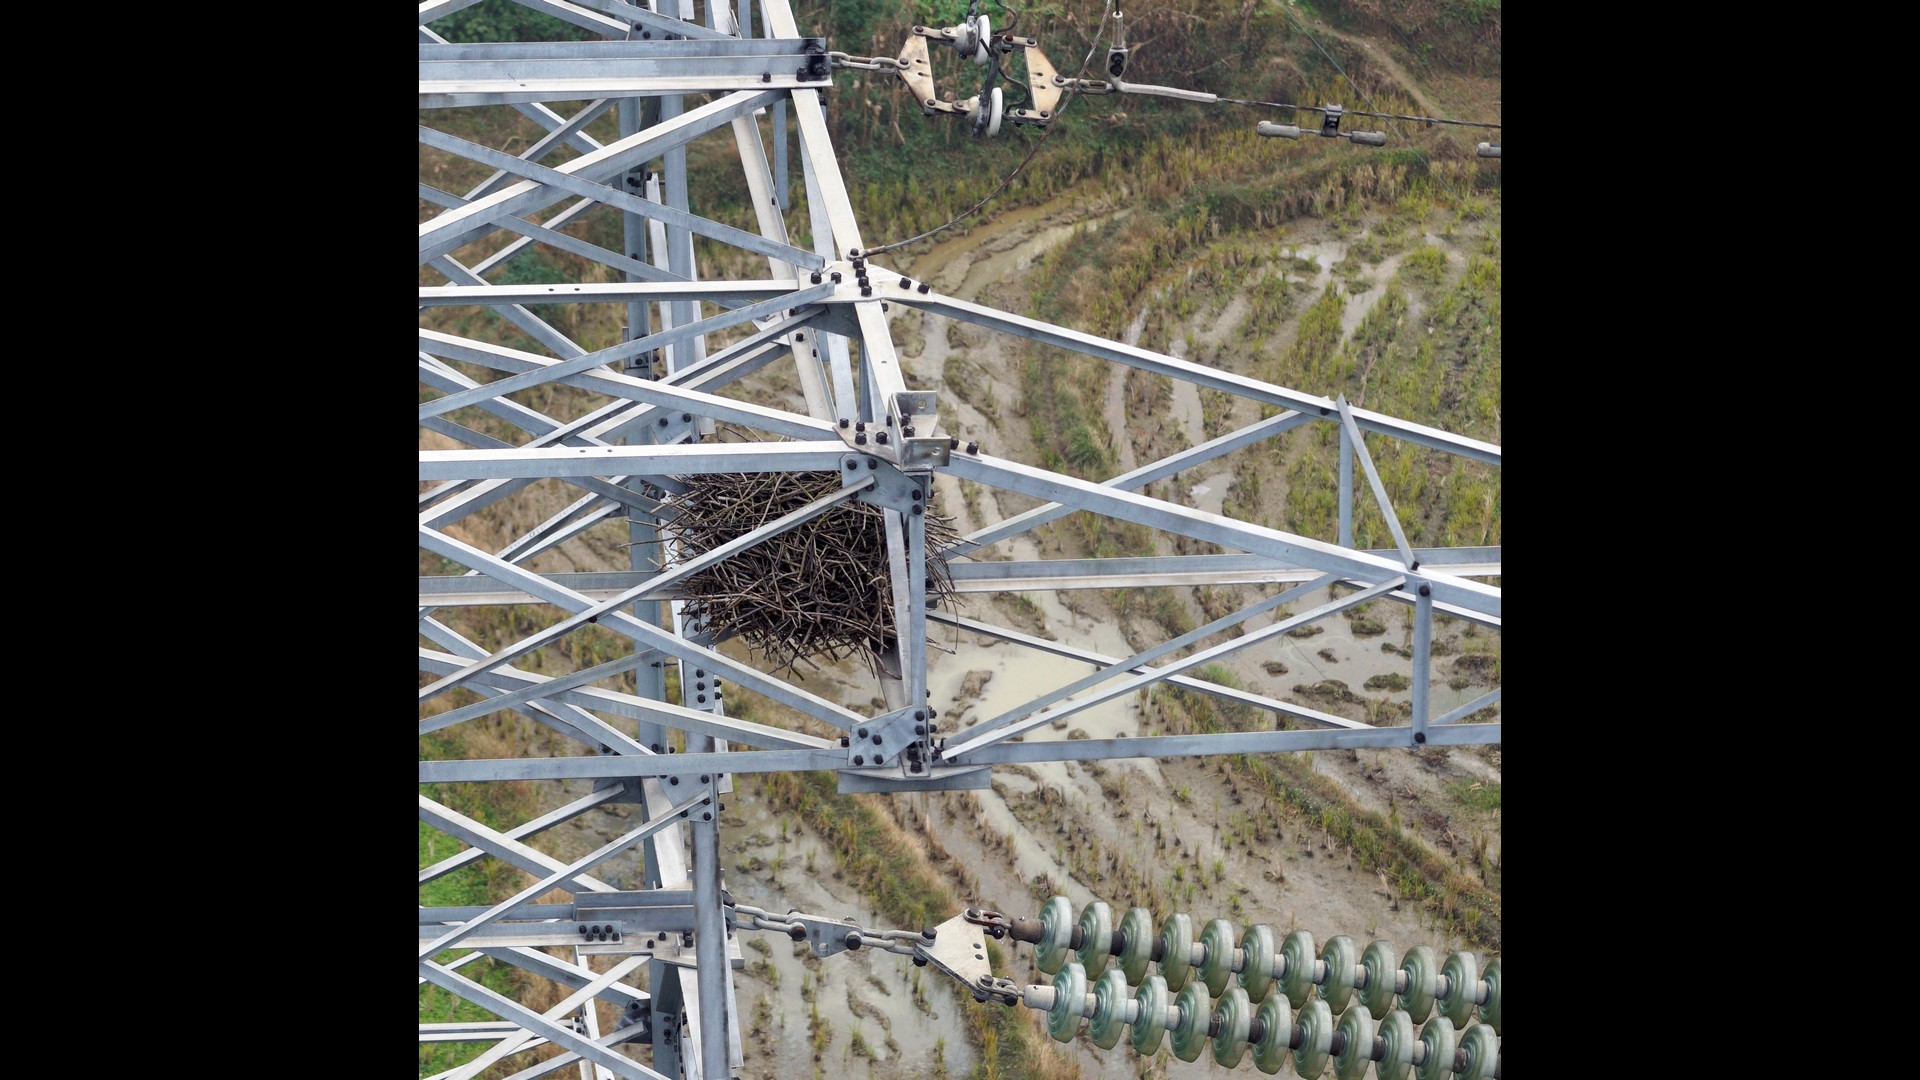niaowo: (632, 423, 978, 666)
